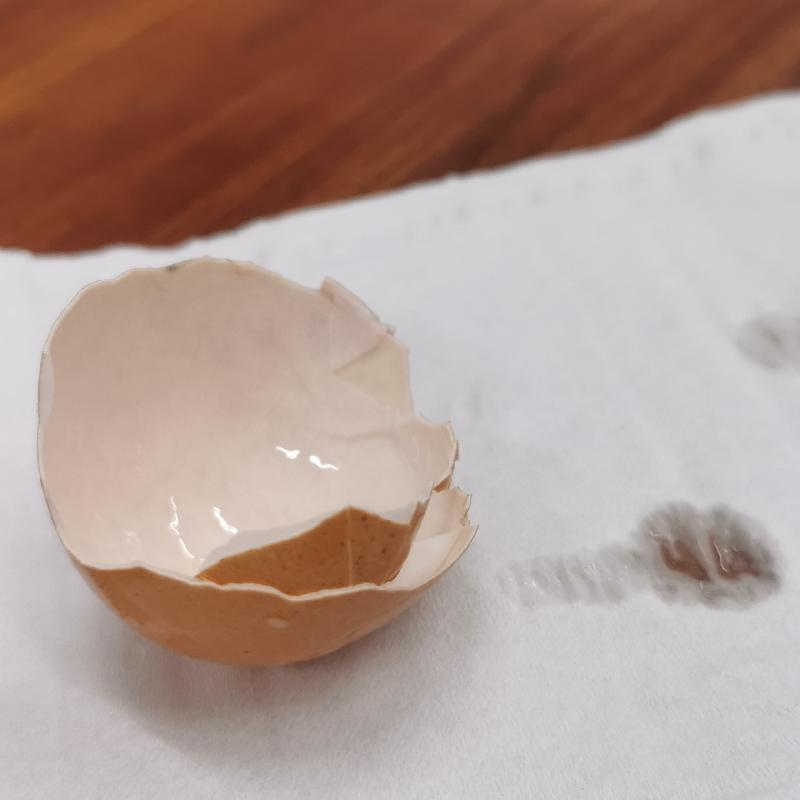eggshell: (31, 258, 476, 667)
